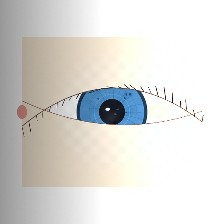pinguecula_lesion: (137, 95, 179, 128)
